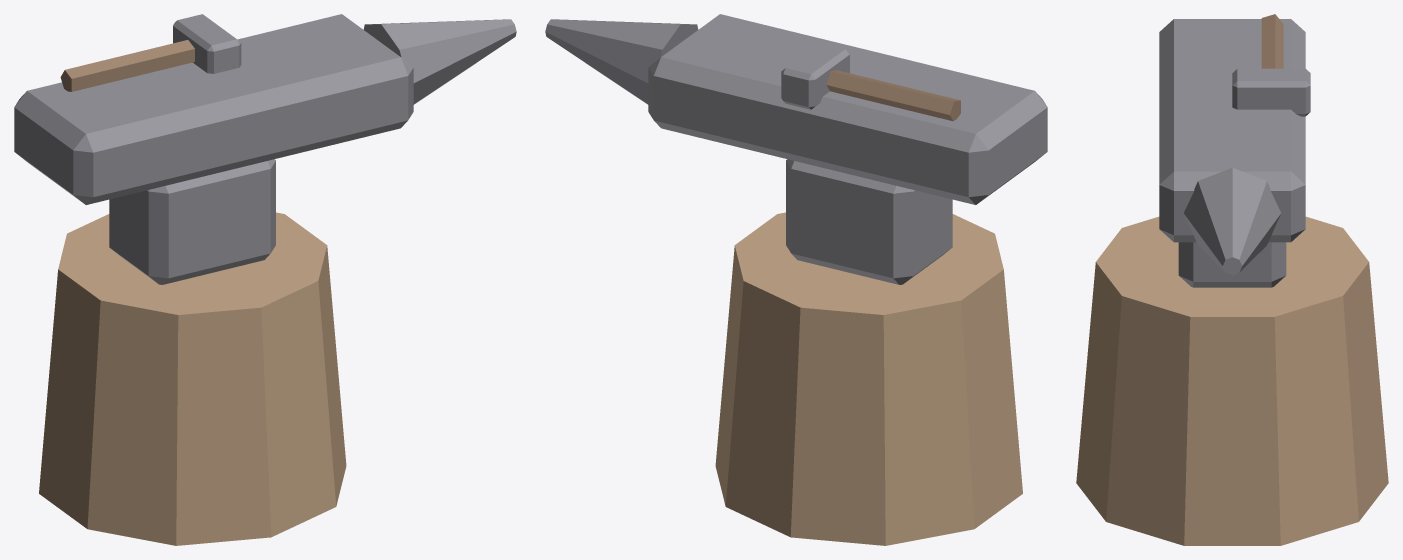
Rendered from prop_anvil.glb.
3 renders of one model, left to right at view 1: azimuth 30°, elevation 25°; view 2: azimuth 150°, elevation 25°; view 3: azimuth 270°, elevation 25°, orthographic.
Parts seen in each view (by area): view 1: prop_anvil; view 2: prop_anvil; view 3: prop_anvil.
Part boxes in pixels (bbox=[...]): prop_anvil: bbox=[14, 14, 516, 545]; prop_anvil: bbox=[545, 14, 1047, 545]; prop_anvil: bbox=[1076, 14, 1388, 545].
Size of the model in its own units: 1.1 by 0.96 by 0.64.
